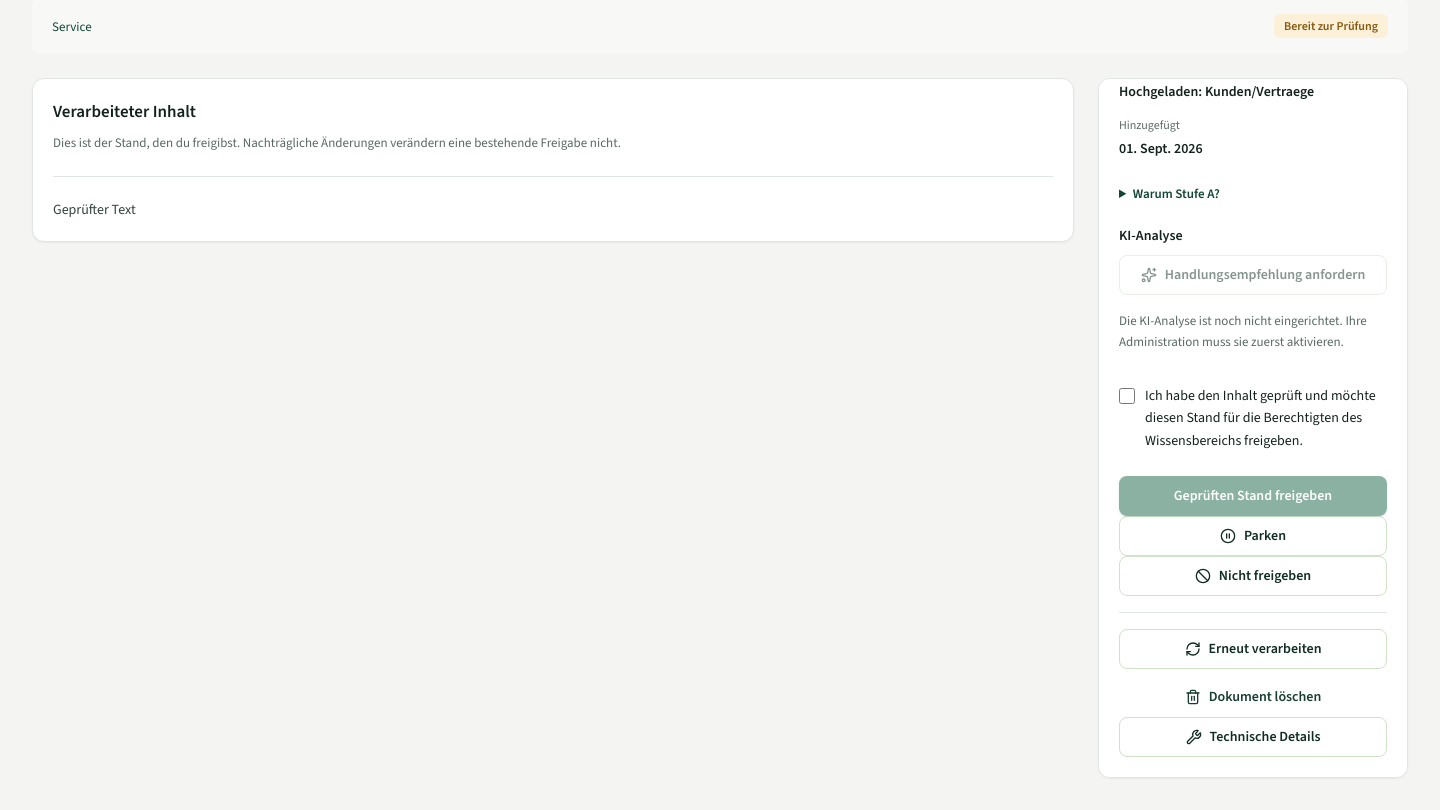
Test case: skips a document and shows it as übersprungen with an unskip button
(page scrolled)
Step 1. Click the button "Nicht freigeben" → (1253, 576), box [1119,556,1387,596]
(page scrolled)
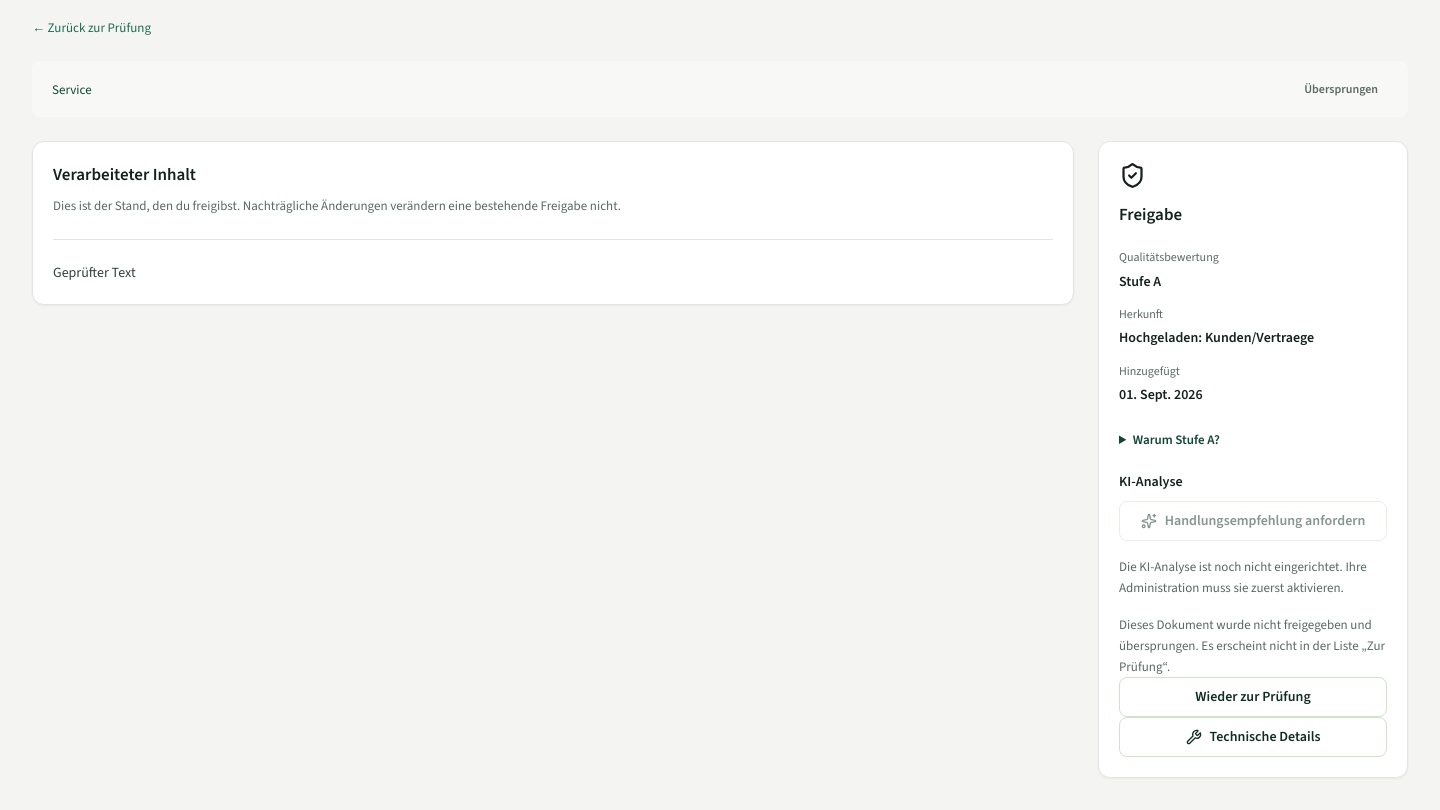
Check: the button "Wieder zur Prüfung" is shown, box [1119,677,1387,717]
Check: the text "Übersprungen" is shown, box [1294,77,1388,101]
